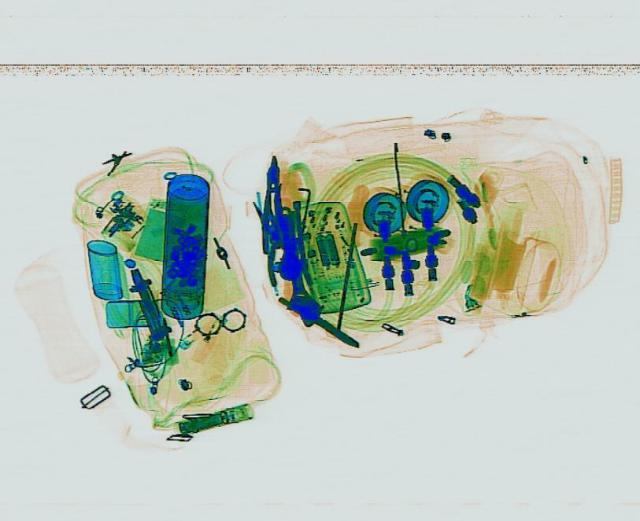Pliers: (258, 183, 302, 286)
